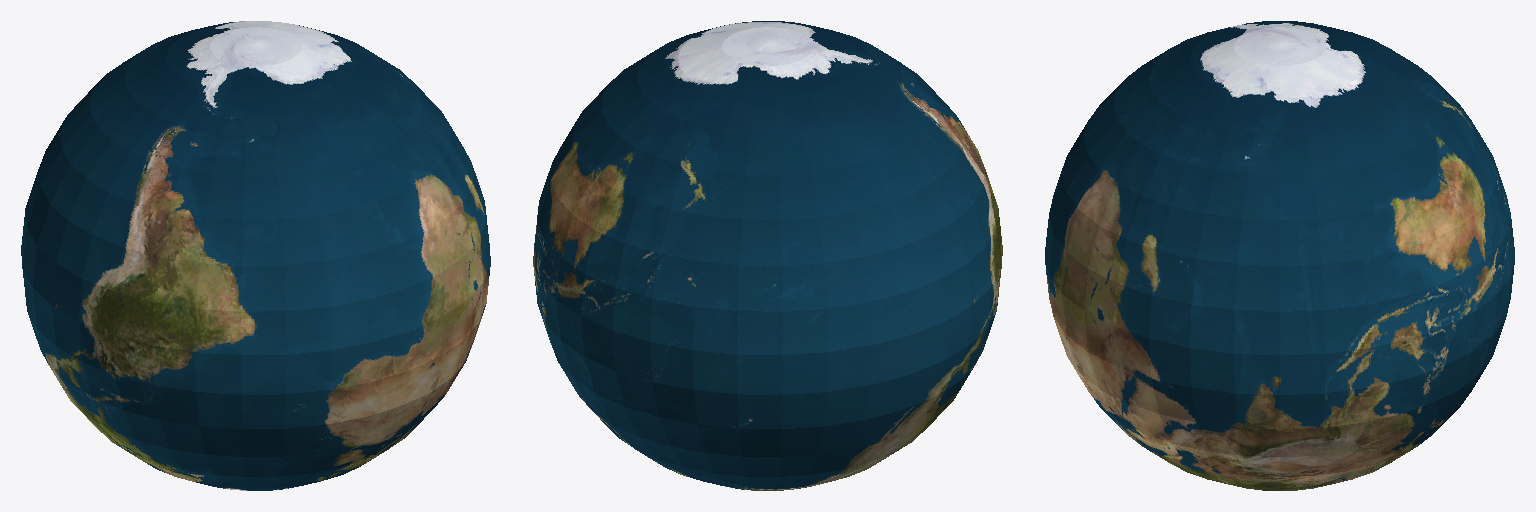
3 views of the same model, side by side, from view 1: azimuth 30°, elevation 25°; view 2: azimuth 150°, elevation 25°; view 3: azimuth 270°, elevation 25° (orthographic).
Parts seen in each view (by area): view 1: Sphere; view 2: Sphere; view 3: Sphere.
Part boxes in pixels (x1,y1,x2,y2): Sphere: (21, 21, 490, 490); Sphere: (533, 21, 1002, 490); Sphere: (1045, 21, 1514, 490).
Bounding box in the file's own units: 2 × 2 × 2.
Materials: 1 (1 with a texture image).